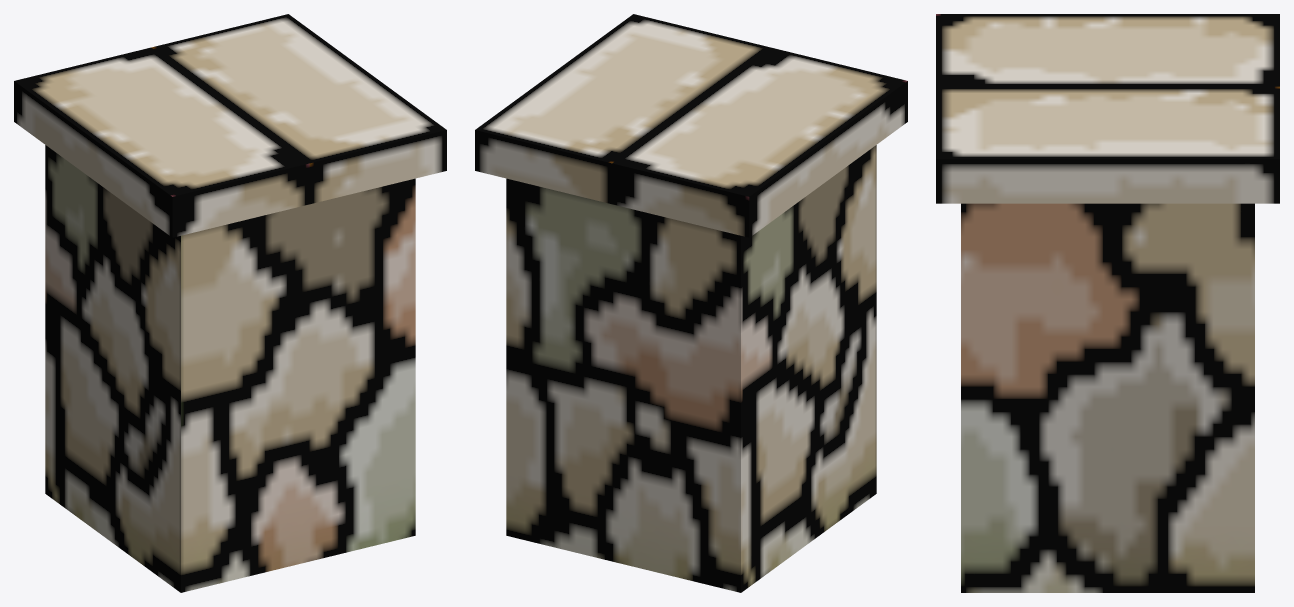
Rendered from deco_wallPillar.FBX.
The picture shows the model from 3 angles, left to right: view 1: azimuth 30°, elevation 25°; view 2: azimuth 150°, elevation 25°; view 3: azimuth 270°, elevation 25°; orthographic projection. The views are drawn at different scales.
Visible parts, largest first — view 1: deco_wallPillar; view 2: deco_wallPillar; view 3: deco_wallPillar.
Part boxes in pixels (<box>): deco_wallPillar: <box>14,14,446,592</box>; deco_wallPillar: <box>475,14,907,592</box>; deco_wallPillar: <box>936,14,1279,592</box>.
Bounding box in the file's own units: 0.8769 × 1.25 × 0.8769.
Materials: 1 (1 with a texture image).
